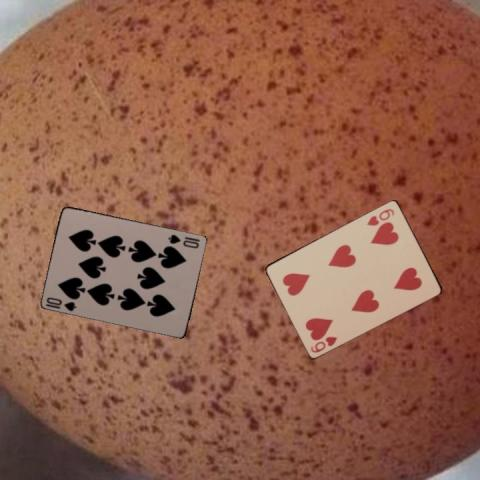10s: (43, 294, 78, 313), (166, 232, 201, 250)
6h: (364, 205, 396, 227), (307, 333, 339, 354)
